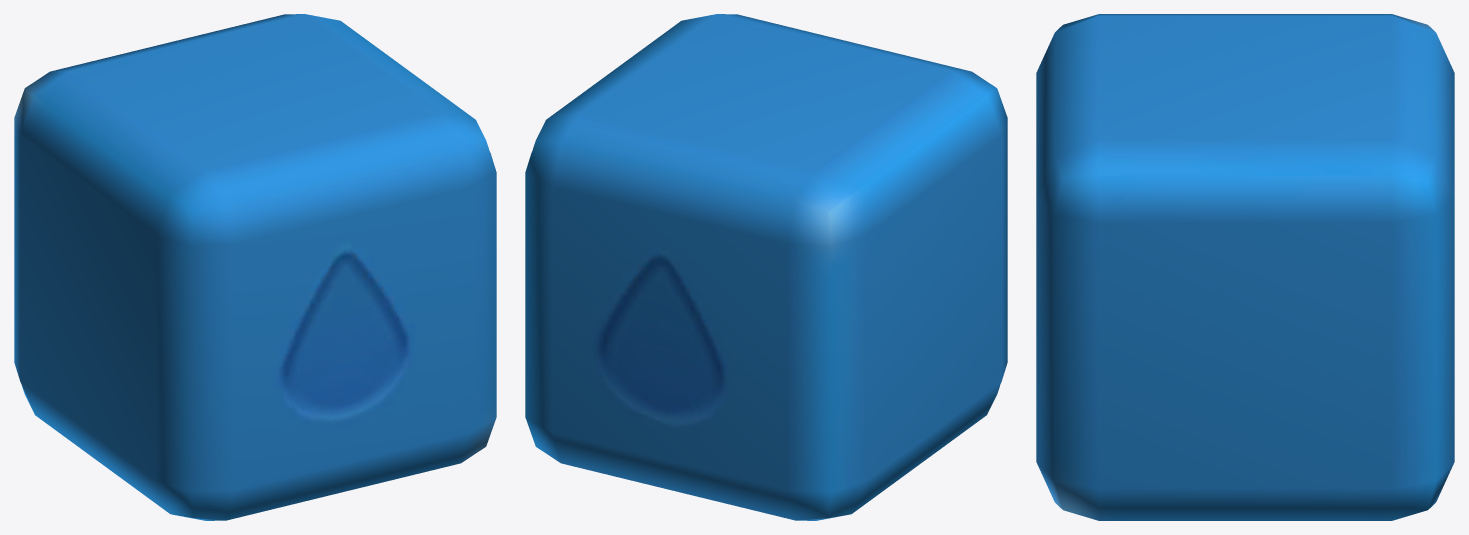
Rendered from 0-tooncube_blue.fbx.
The picture shows the model from 3 angles, left to right: view 1: azimuth 30°, elevation 25°; view 2: azimuth 150°, elevation 25°; view 3: azimuth 270°, elevation 25°; orthographic projection. The views are drawn at different scales.
Visible parts, largest first — view 1: 0-tooncube_blue; view 2: 0-tooncube_blue; view 3: 0-tooncube_blue.
Part boxes in pixels (bbox=[...]): 0-tooncube_blue: bbox=[14, 14, 496, 520]; 0-tooncube_blue: bbox=[525, 14, 1007, 520]; 0-tooncube_blue: bbox=[1036, 14, 1454, 520].
Size of the model in its own units: 100 by 100 by 100.
